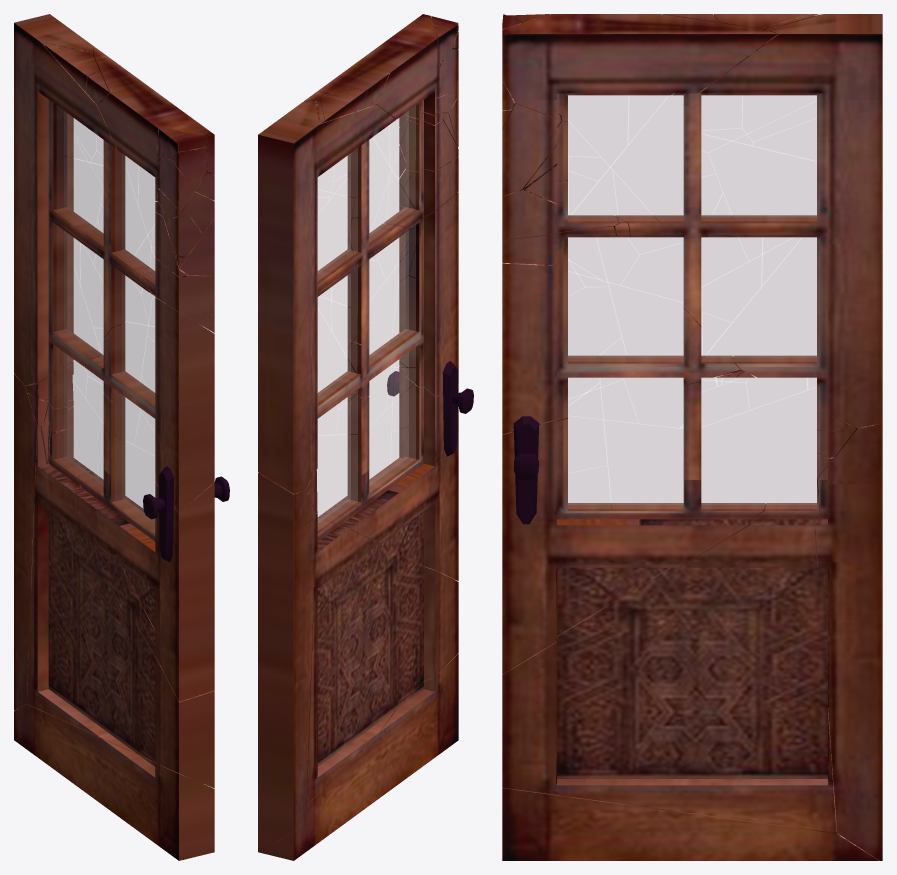
Rendered from Door_Glass_Broken.fbx.
3 views of the same model, side by side, from view 1: azimuth 30°, elevation 25°; view 2: azimuth 150°, elevation 25°; view 3: azimuth 270°, elevation 25° (orthographic). The views are drawn at different scales.
Parts seen in each view (by area): view 1: Glass_Door.013_cell.005, Glass_Door.013_cell.003, Glass_Door.013_cell.001, Glass_Door.013_cell.011, Glass_Door.013_cell.008, Glass_Door.013_cell.007, Glass_Door.013_cell.009, Glass_Door.009_cell.001, Glass_Door.003_cell.001, Glass_Door.011_cell, Glass_Door.002_cell.001, Glass_Door.006_cell (+31 smaller); view 2: Glass_Door.013_cell.003, Glass_Door.013_cell.005, Glass_Door.013_cell.007, Glass_Door.013_cell.001, Glass_Door.013_cell.008, Glass_Door.013_cell.011, Glass_Door.013_cell.009, Glass_Door.009_cell.001, Glass_Door.004_cell, Glass_Door.003_cell.001, Glass_Door.013_cell.004_cell.006, Glass_Door.006_cell (+28 smaller); view 3: Glass_Door.013_cell.005, Glass_Door.013_cell.003, Glass_Door.013_cell.001, Glass_Door.013_cell.007, Glass_Door.013_cell.009, Glass_Door.013_cell.011, Glass_Door.013_cell.008, Glass_Door.009_cell.001, Glass_Door.011_cell, Glass_Door.003_cell.001, Glass_Door.010_cell, Glass_Door.007_cell.003 (+34 smaller).
Part boxes in pixels (x1,y1,x2,y2): Glass_Door.013_cell.005: (27, 427, 214, 788); Glass_Door.013_cell.003: (14, 14, 148, 385); Glass_Door.013_cell.001: (70, 393, 214, 701); Glass_Door.013_cell.011: (14, 704, 214, 860); Glass_Door.013_cell.008: (85, 297, 214, 512); Glass_Door.013_cell.007: (14, 374, 78, 711); Glass_Door.013_cell.009: (93, 47, 214, 200); Glass_Door.009_cell.001: (64, 353, 102, 484); Glass_Door.003_cell.001: (57, 358, 102, 491); Glass_Door.011_cell: (64, 231, 102, 356); Glass_Door.002_cell.001: (57, 110, 102, 234); Glass_Door.006_cell: (115, 268, 151, 390); Glass_Door.013_cell.003: (258, 100, 398, 493); Glass_Door.013_cell.005: (306, 513, 458, 805); Glass_Door.013_cell.007: (258, 473, 316, 852); Glass_Door.013_cell.001: (317, 366, 458, 580); Glass_Door.013_cell.008: (333, 192, 458, 400); Glass_Door.013_cell.011: (260, 653, 458, 860); Glass_Door.013_cell.009: (304, 14, 437, 119); Glass_Door.009_cell.001: (317, 399, 350, 522); Glass_Door.004_cell: (370, 383, 415, 491); Glass_Door.003_cell.001: (317, 435, 357, 529); Glass_Door.013_cell.004_cell.006: (384, 157, 458, 227); Glass_Door.006_cell: (369, 235, 402, 363); Glass_Door.013_cell.005: (502, 474, 836, 832); Glass_Door.013_cell.003: (615, 14, 882, 427); Glass_Door.013_cell.001: (502, 381, 765, 674); Glass_Door.013_cell.007: (815, 423, 882, 860); Glass_Door.013_cell.009: (502, 14, 777, 118); Glass_Door.013_cell.011: (502, 787, 879, 860); Glass_Door.013_cell.008: (502, 248, 742, 434); Glass_Door.009_cell.001: (702, 377, 816, 508); Glass_Door.011_cell: (702, 238, 816, 360); Glass_Door.003_cell.001: (702, 388, 816, 504); Glass_Door.010_cell: (601, 378, 682, 508); Glass_Door.007_cell.003: (568, 95, 682, 220).
Size of the model in its own units: 27.74 by 240 by 100.
Materials: 4 (1 with a texture image).
